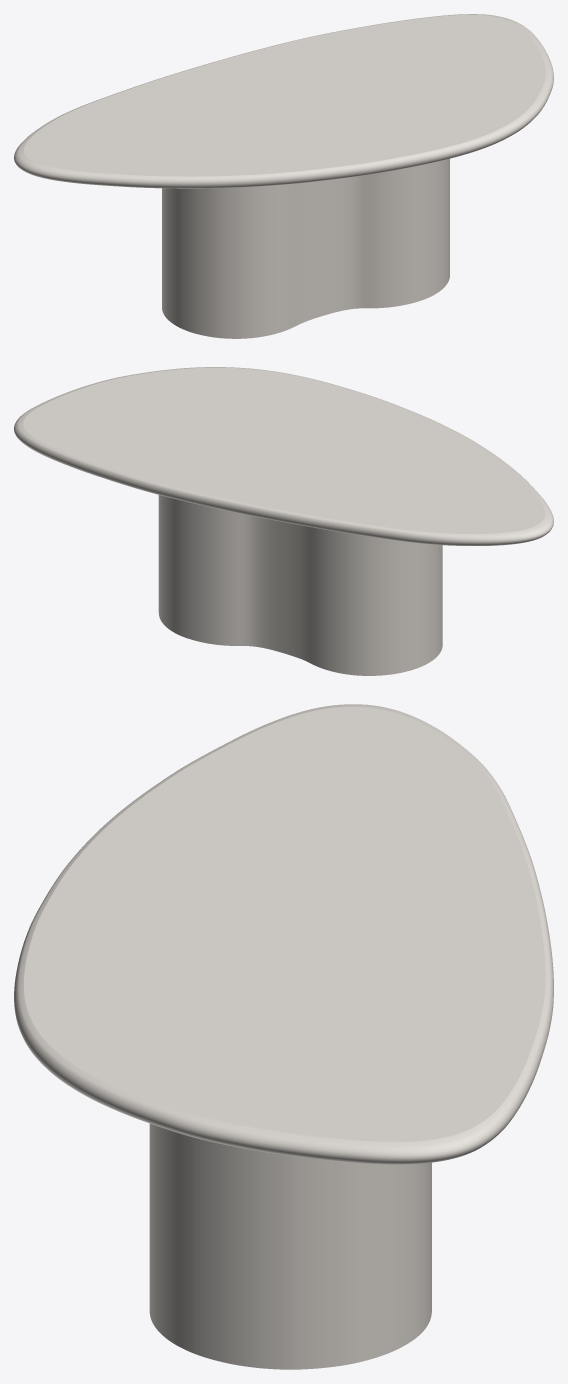
The model's file is pearlwhite_pebbletop_round_riverwave.glb.
3 views of the same model, one above another, from view 1: azimuth 30°, elevation 25°; view 2: azimuth 150°, elevation 25°; view 3: azimuth 270°, elevation 25° (orthographic). The views are drawn at different scales.
Visible parts, largest first — view 1: round_pebbletop, riverwave; view 2: round_pebbletop, riverwave; view 3: round_pebbletop, riverwave.
Part boxes in pixels (x1,y1,x2,y2): round_pebbletop: [14, 14, 553, 188]; riverwave: [162, 158, 449, 338]; round_pebbletop: [14, 367, 553, 545]; riverwave: [158, 495, 442, 675]; round_pebbletop: [14, 704, 553, 1164]; riverwave: [149, 1123, 431, 1369].
Bounding box in the file's own units: 7.5 × 2.51 × 3.8.
Materials: 1 (1 with a texture image).
